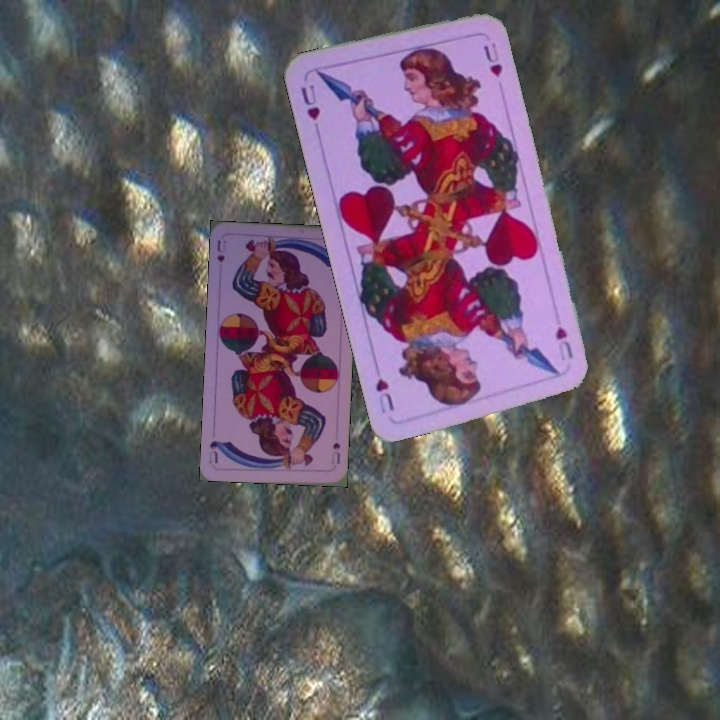HU: (296, 80, 323, 135), (551, 322, 576, 363)
SU: (327, 439, 343, 467), (213, 236, 228, 265)
